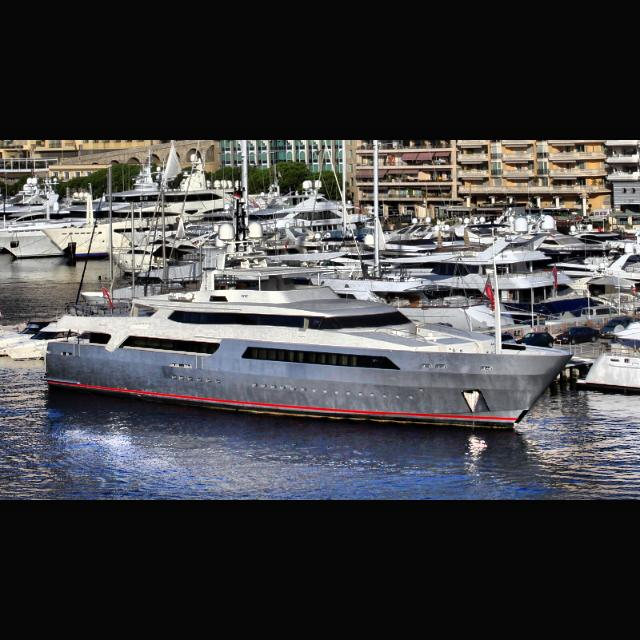yacht: (38, 186, 576, 432)
